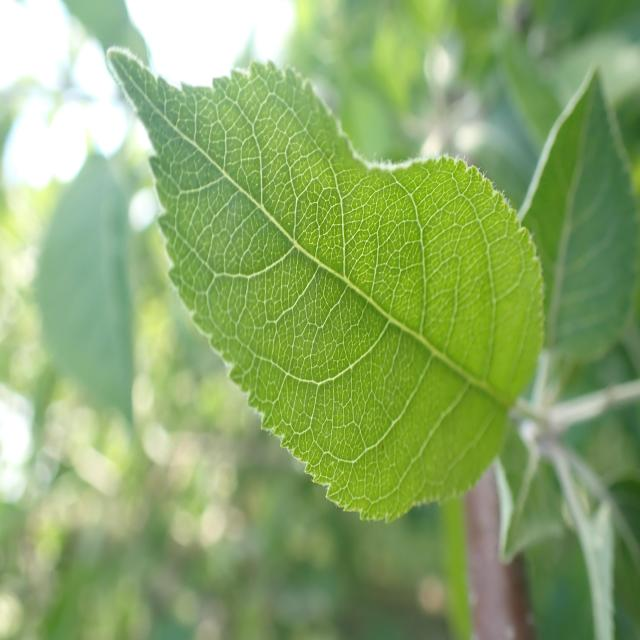healthy: (106, 42, 546, 525), (515, 64, 640, 363)
